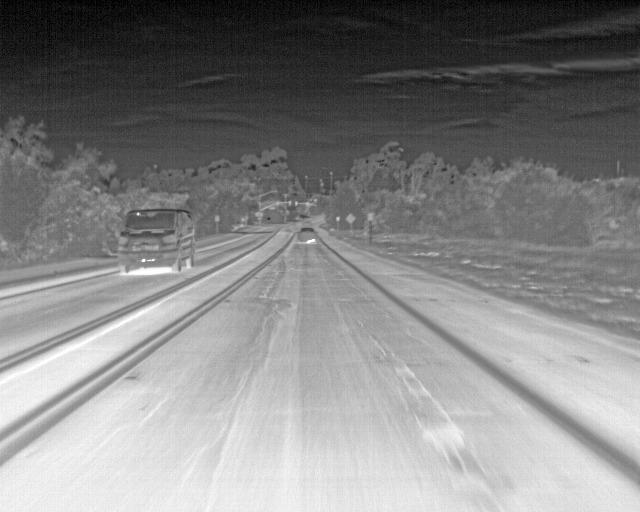car: (117, 208, 195, 274), (297, 227, 316, 243), (303, 216, 312, 222), (264, 217, 271, 223), (299, 214, 304, 220)
light: (295, 201, 297, 205), (289, 201, 291, 205), (306, 202, 308, 206), (276, 202, 278, 205)
sign: (346, 214, 355, 223), (368, 213, 373, 220), (215, 215, 219, 221), (255, 213, 259, 217), (336, 217, 339, 221), (260, 213, 263, 217)
